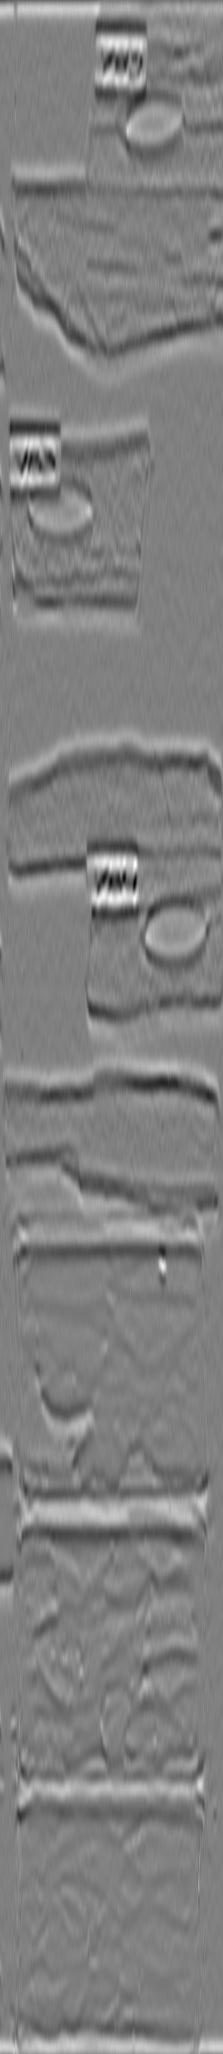hplug: (108, 83, 195, 155), (136, 893, 214, 975), (22, 477, 104, 553)
vplug: (18, 4, 101, 196), (9, 849, 97, 1013)
